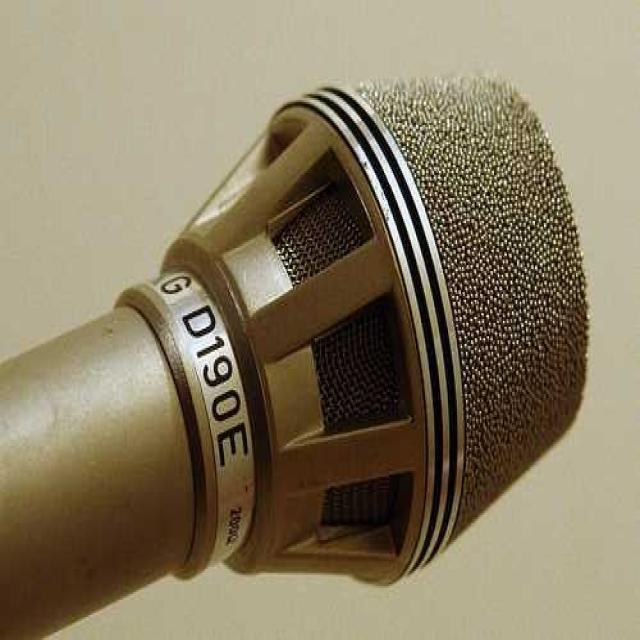microphone: (2, 63, 586, 639)
